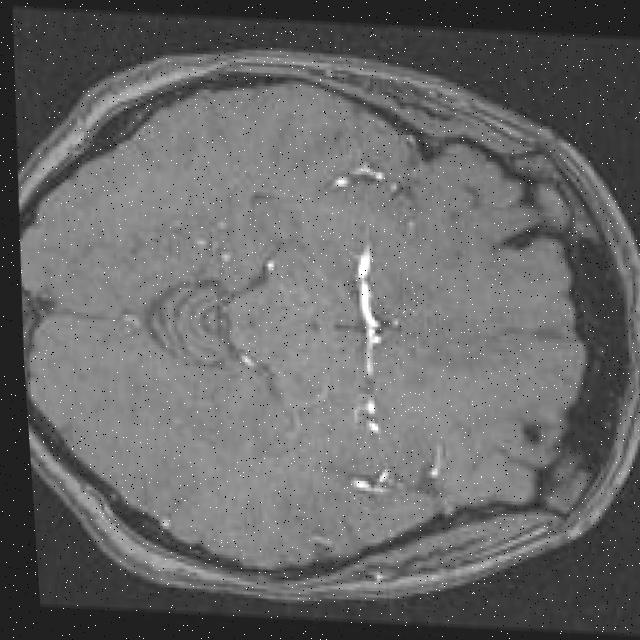NoTumor: (2, 37, 640, 621)
